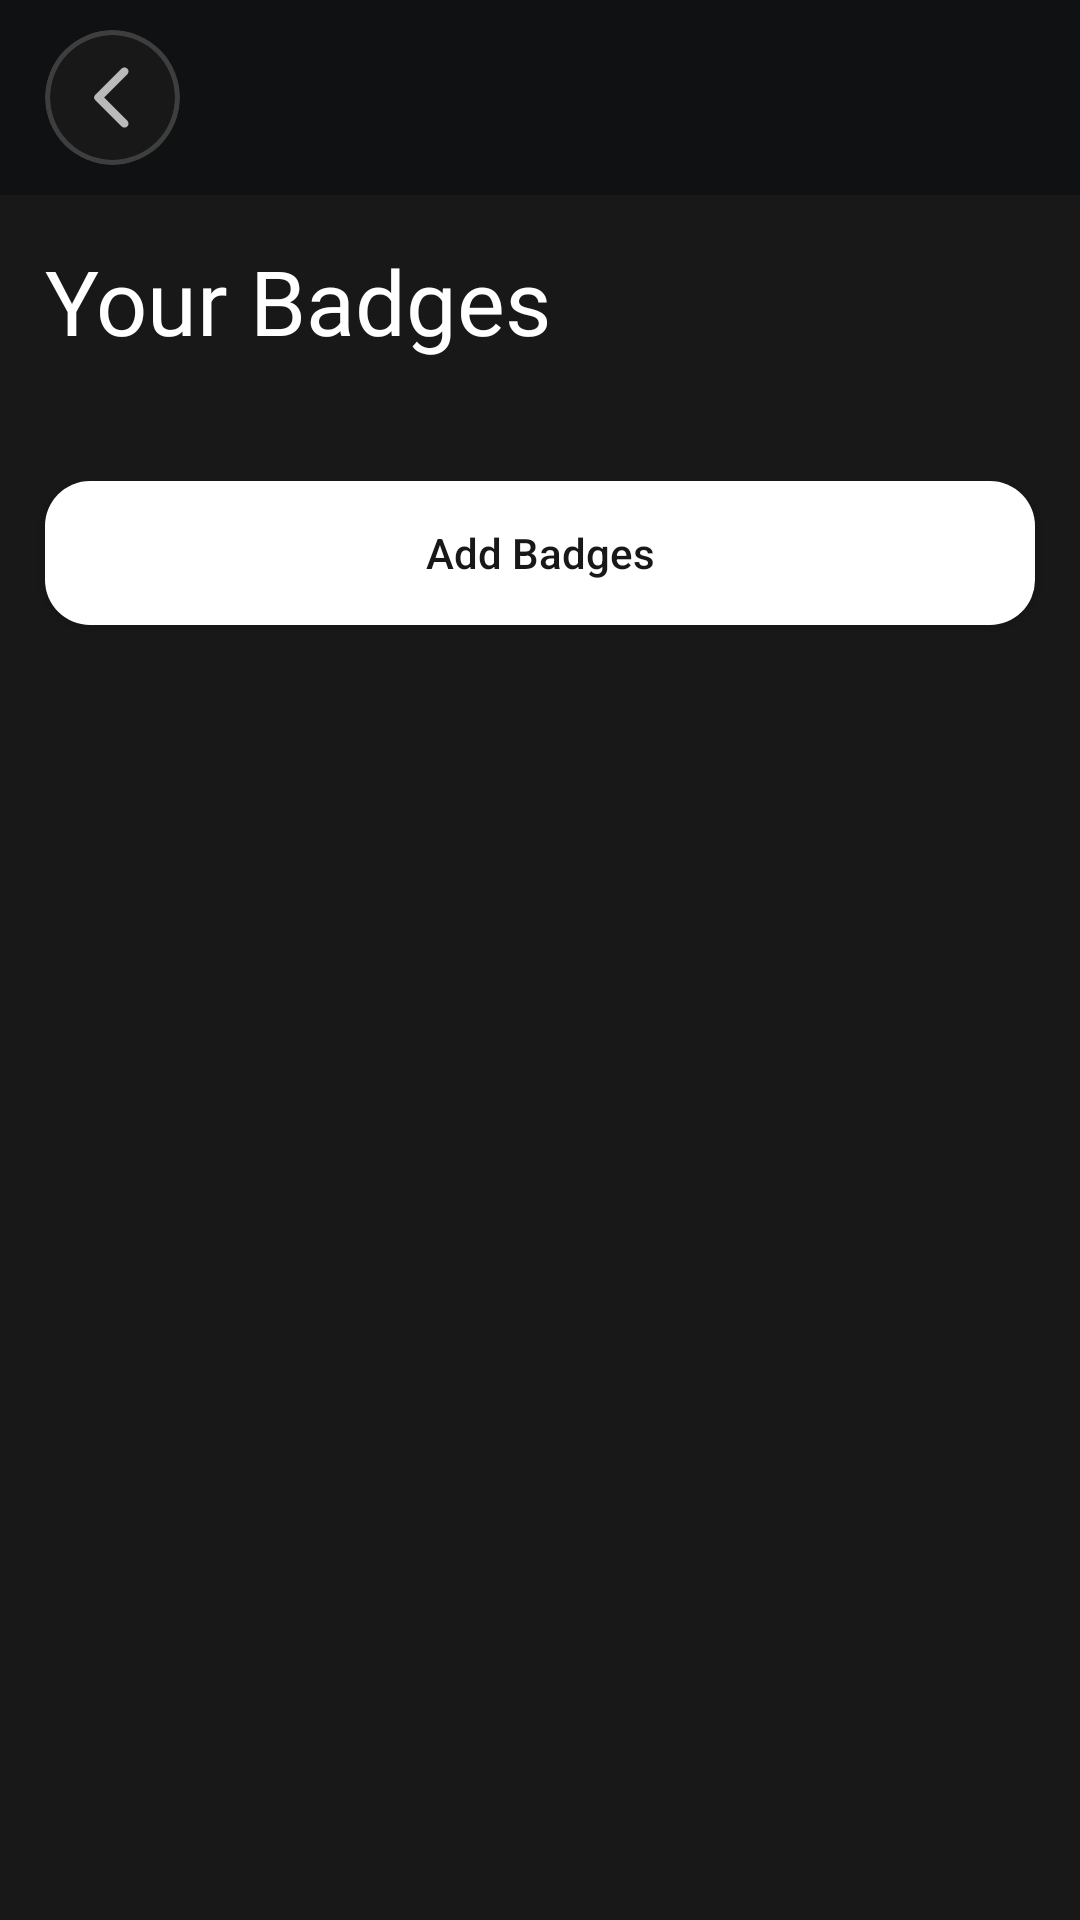

Screen size 1080x1920. Icon name, then its box in pixels as [left=x1, top=y1, right=x2, bottom=y2]:
back: [left=94, top=67, right=129, bottom=128]
